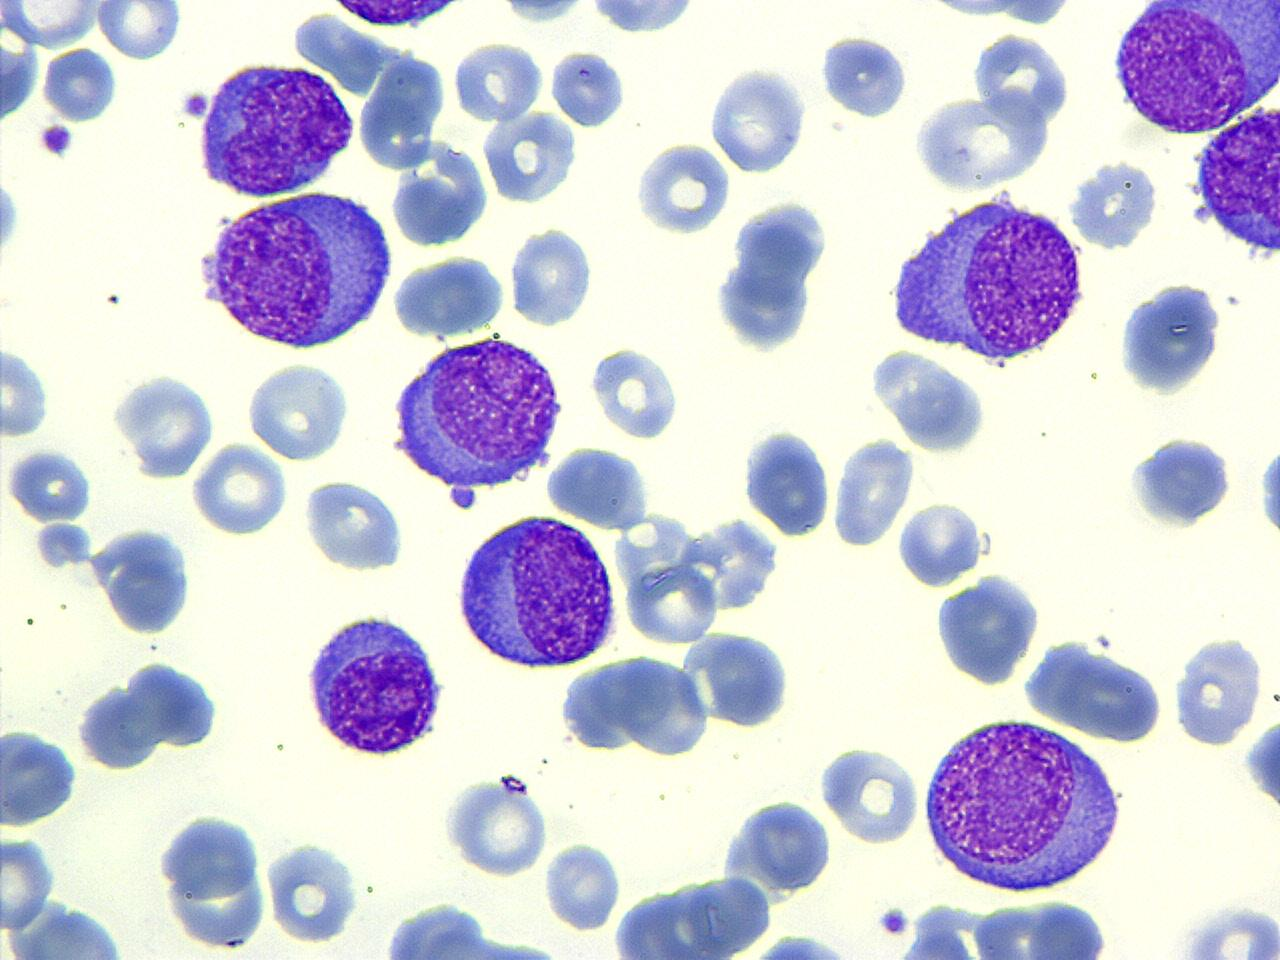Platelets: (894, 500, 984, 588), (2, 446, 97, 526), (1167, 898, 1280, 960), (41, 48, 121, 123), (1242, 718, 1280, 810), (30, 522, 92, 570), (497, 1, 590, 25), (1256, 444, 1280, 536), (0, 177, 22, 256), (37, 121, 75, 160), (875, 906, 912, 938), (180, 88, 210, 120)
RBC: (0, 824, 142, 958), (816, 740, 923, 846), (687, 628, 797, 731), (610, 654, 714, 760), (262, 838, 361, 946), (303, 476, 409, 576), (632, 137, 732, 237), (478, 108, 580, 206), (189, 442, 288, 538), (624, 556, 720, 646), (450, 39, 544, 125), (895, 499, 985, 589), (542, 836, 625, 932), (1166, 902, 1280, 960), (1, 832, 56, 932), (95, 1, 185, 62), (0, 341, 52, 438), (1, 0, 102, 49)
WBC: (916, 712, 1125, 899), (883, 184, 1089, 370), (195, 184, 396, 356), (388, 329, 566, 510), (907, 25, 1073, 200), (451, 510, 621, 674), (191, 57, 358, 203), (1106, 0, 1274, 140), (300, 610, 450, 762), (616, 506, 776, 644), (710, 195, 834, 360), (72, 654, 227, 777), (155, 806, 274, 952), (1018, 632, 1170, 744), (563, 652, 711, 759), (1194, 85, 1280, 267), (931, 567, 1045, 690), (866, 344, 992, 455), (716, 792, 836, 906), (1116, 278, 1228, 399), (705, 59, 814, 177), (89, 524, 198, 639), (439, 771, 553, 880), (110, 368, 219, 482), (1168, 630, 1270, 750), (243, 355, 355, 464), (684, 626, 796, 734), (1122, 431, 1236, 535), (261, 834, 364, 948), (375, 902, 578, 959), (360, 49, 454, 171), (385, 144, 493, 250), (819, 738, 924, 846), (738, 423, 834, 541), (302, 476, 411, 576), (392, 250, 508, 342), (631, 136, 732, 239), (479, 107, 580, 208), (542, 444, 656, 532), (1064, 154, 1164, 255), (959, 898, 1122, 960), (830, 431, 914, 548), (588, 342, 684, 443), (508, 220, 597, 330), (1, 892, 142, 960), (0, 722, 84, 832), (816, 28, 912, 122), (544, 838, 626, 934), (0, 448, 97, 528), (1166, 898, 1280, 960), (548, 47, 626, 130), (40, 44, 119, 124), (1, 4, 44, 140), (312, 0, 480, 32), (0, 0, 104, 50), (577, 0, 712, 37), (0, 344, 51, 439), (720, 929, 872, 959), (1243, 714, 1280, 812)
